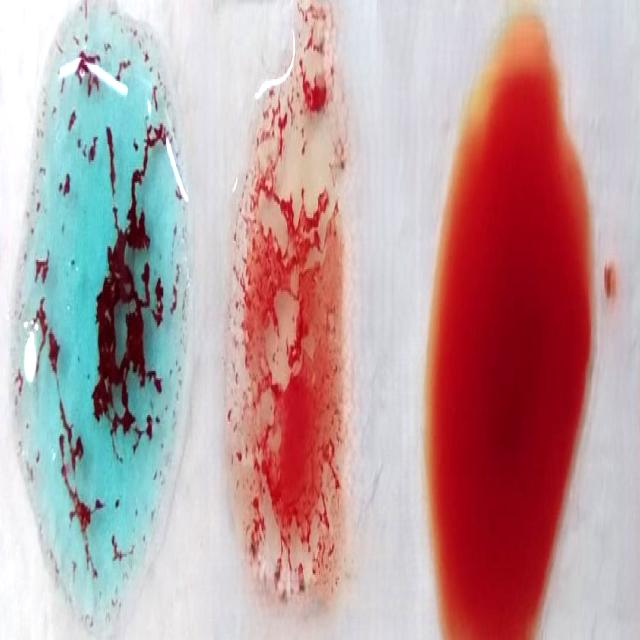A: (24, 9, 185, 634)
D: (226, 13, 352, 629)
